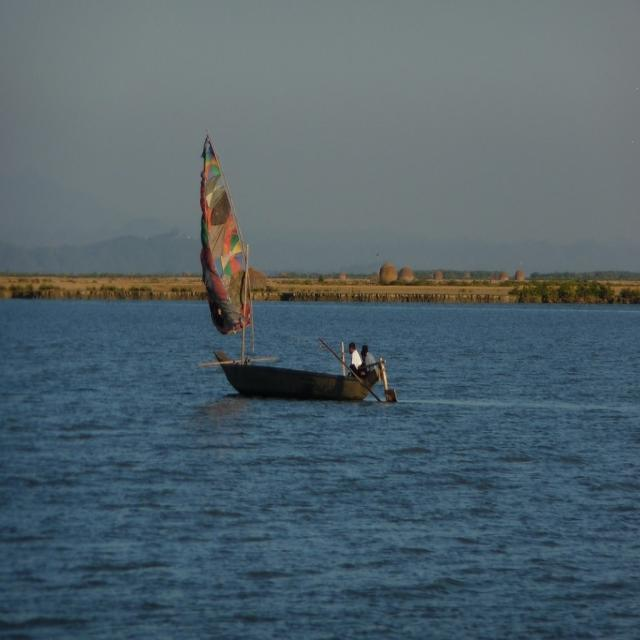boat: (195, 338, 396, 406)
